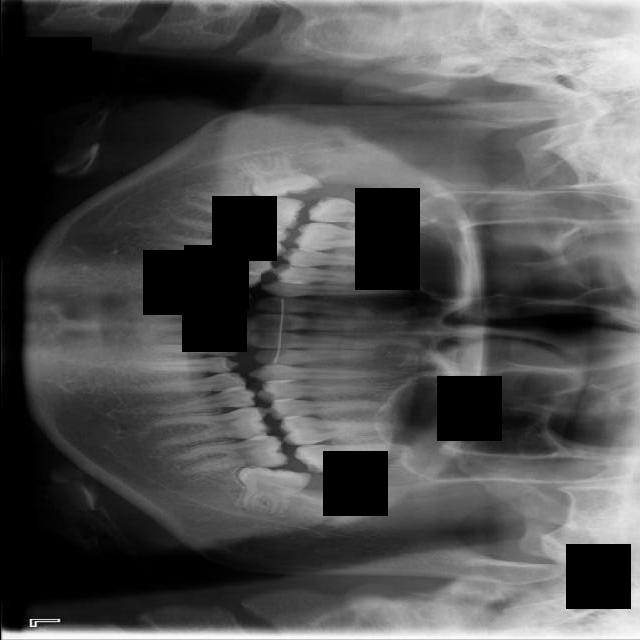73: (42, 606, 60, 613)
BioHorizons Implant: (292, 441, 410, 474)
Biomet 3i Implant: (233, 463, 311, 520)
Blue Sky Bio Implant: (166, 432, 288, 477)
Caries: (307, 195, 428, 230)
Implant: (179, 176, 304, 234)
Keystone Dental Implant: (241, 143, 323, 206)
